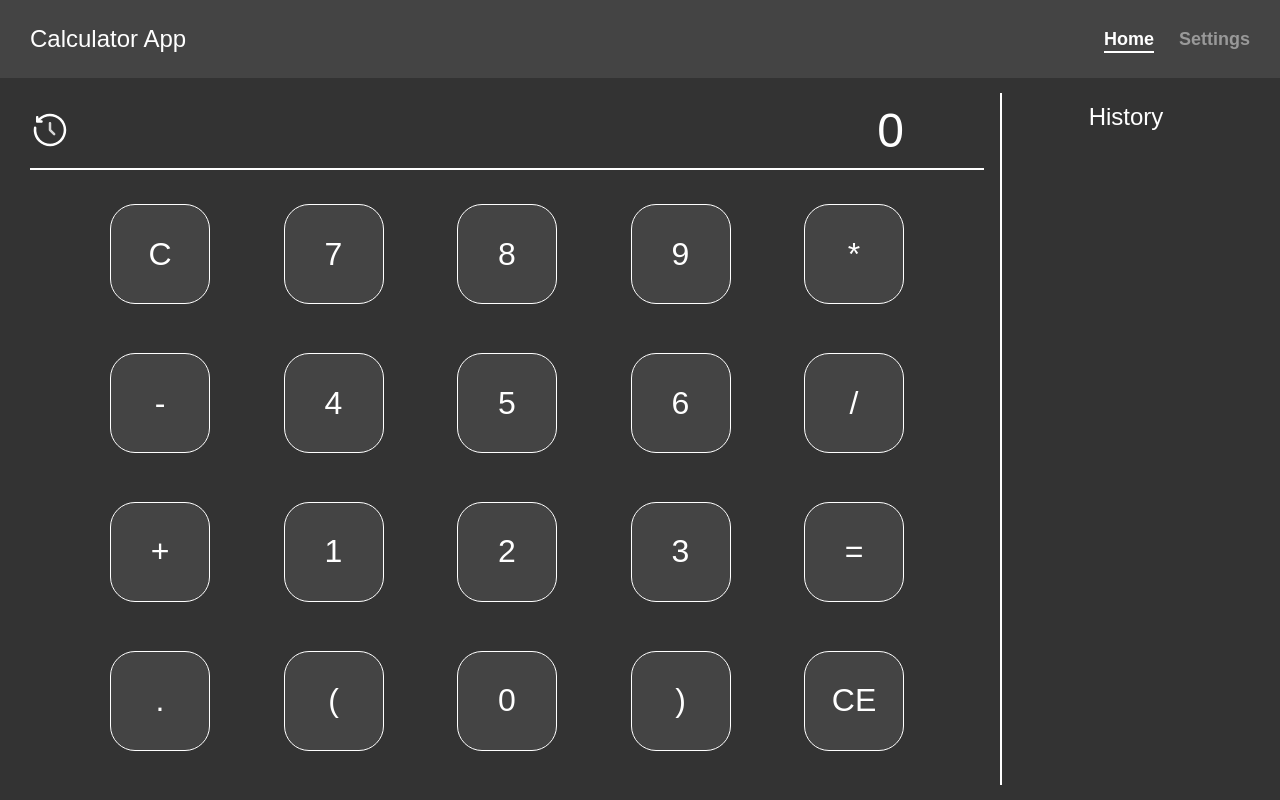
it: Keyboard spec › Should change default expression by click on number
The width and height of the screenshot is (1280, 800).
expect the field with test id "display" holds "0": met, box [110,103,904,158]
Click the button "1" at (334, 552), box [284,502,384,602]
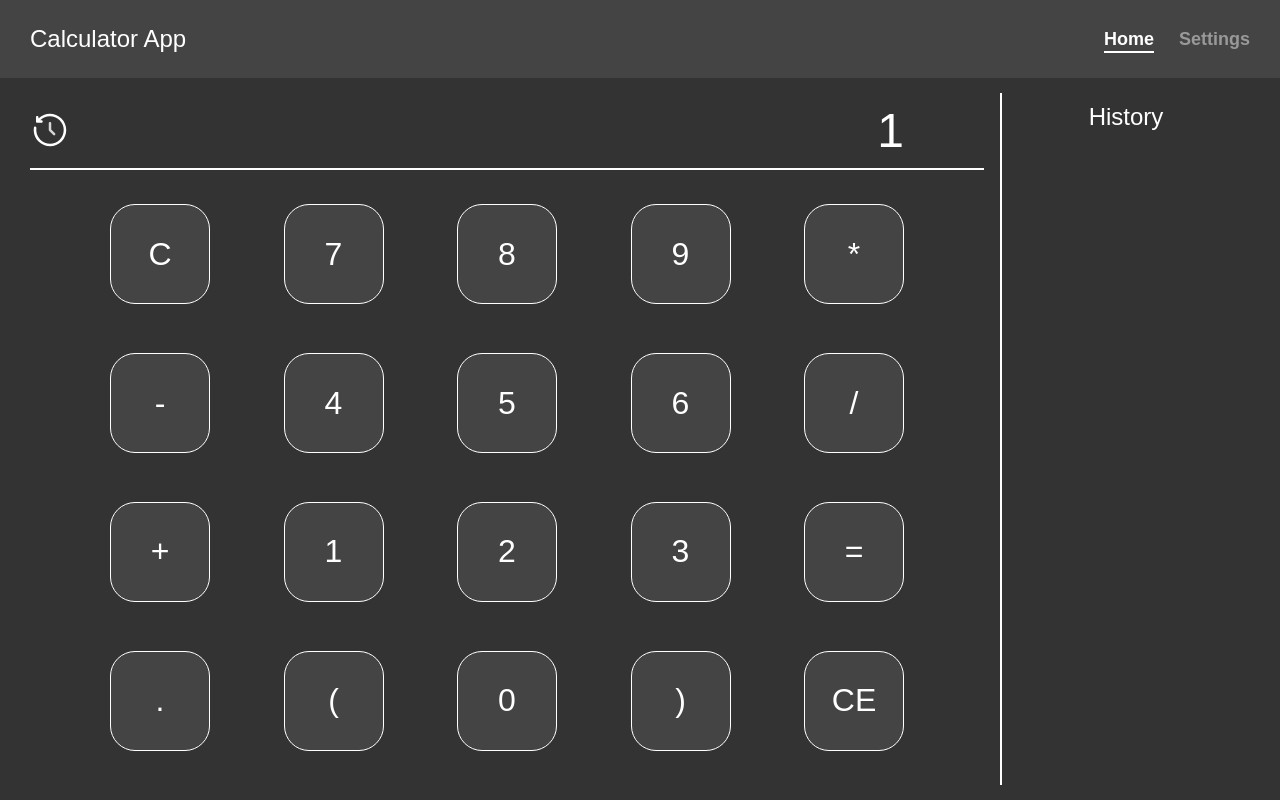
expect the field with test id "display" holds "1": met, box [110,103,904,158]
